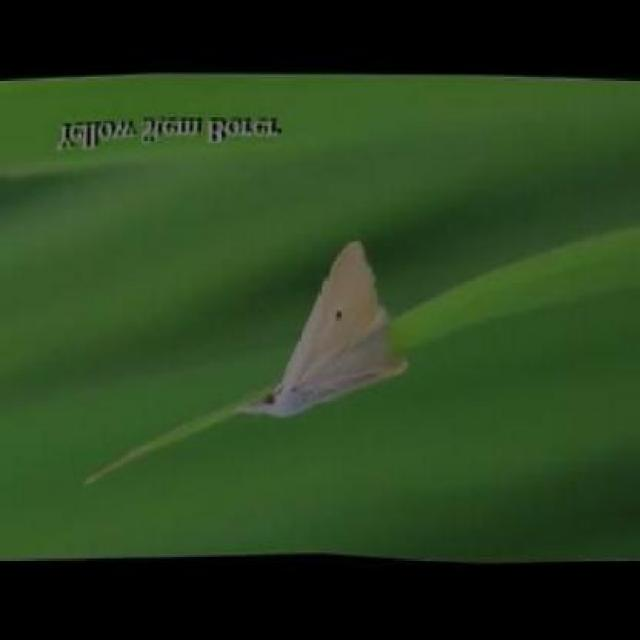stem-borer: (235, 237, 412, 421)
